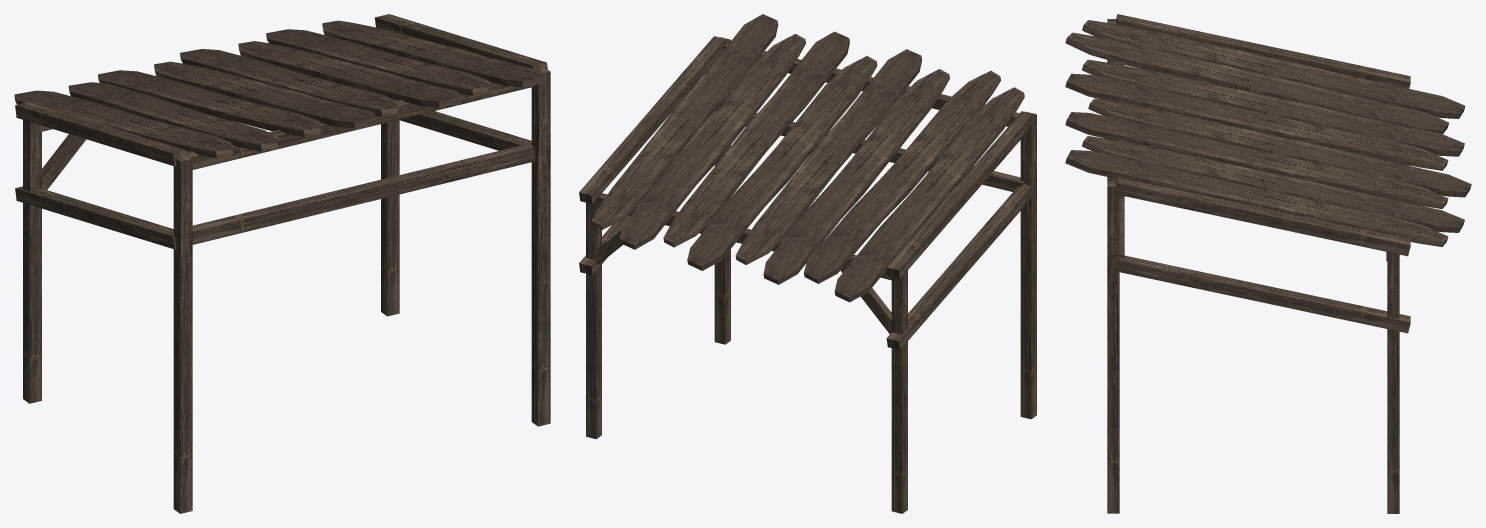
Rendered from f1_wroof.dae.
The picture shows the model from 3 angles, left to right: view 1: azimuth 30°, elevation 25°; view 2: azimuth 150°, elevation 25°; view 3: azimuth 270°, elevation 25°; orthographic projection. The views are drawn at different scales.
Visible parts, largest first — view 1: f1_wroof_Layer1; view 2: f1_wroof_Layer1; view 3: f1_wroof_Layer1.
Part boxes in pixels (box(x1,y1,x2,y2)): f1_wroof_Layer1: box(14, 14, 550, 513); f1_wroof_Layer1: box(579, 14, 1036, 513); f1_wroof_Layer1: box(1065, 14, 1471, 513).
Size of the model in its own units: 1.93 by 1.83 by 1.96.
